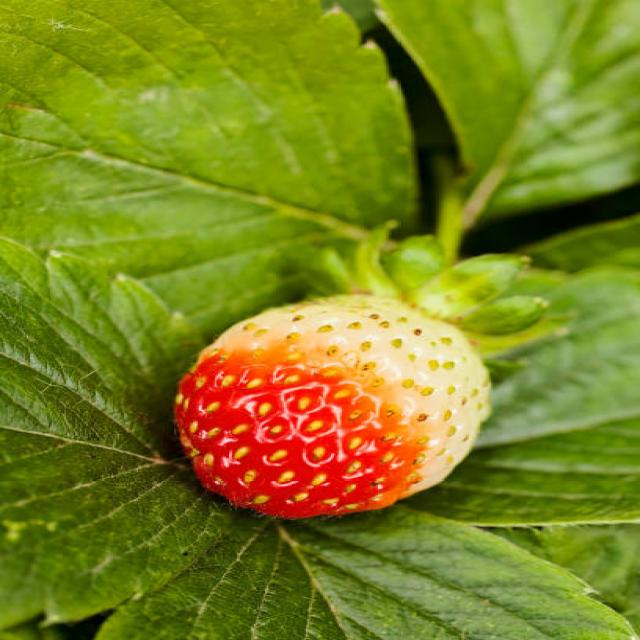Healthy Fruit: (173, 292, 495, 517)
